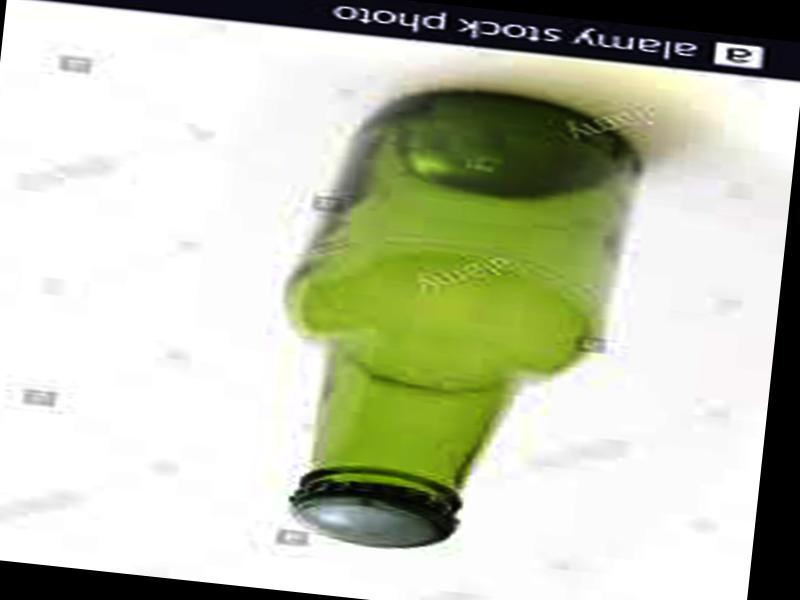Beer: (285, 76, 644, 570)
